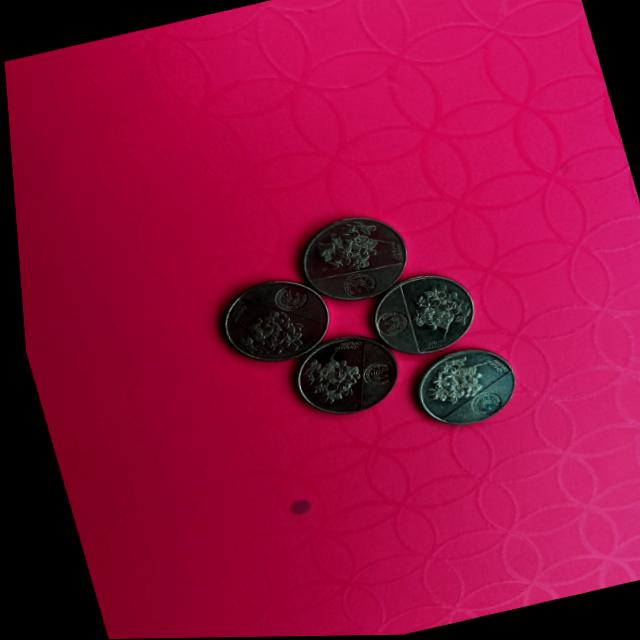1_New_Back: (408, 349, 496, 410), (317, 216, 389, 278), (288, 343, 360, 404), (233, 303, 310, 360), (400, 280, 467, 343)
